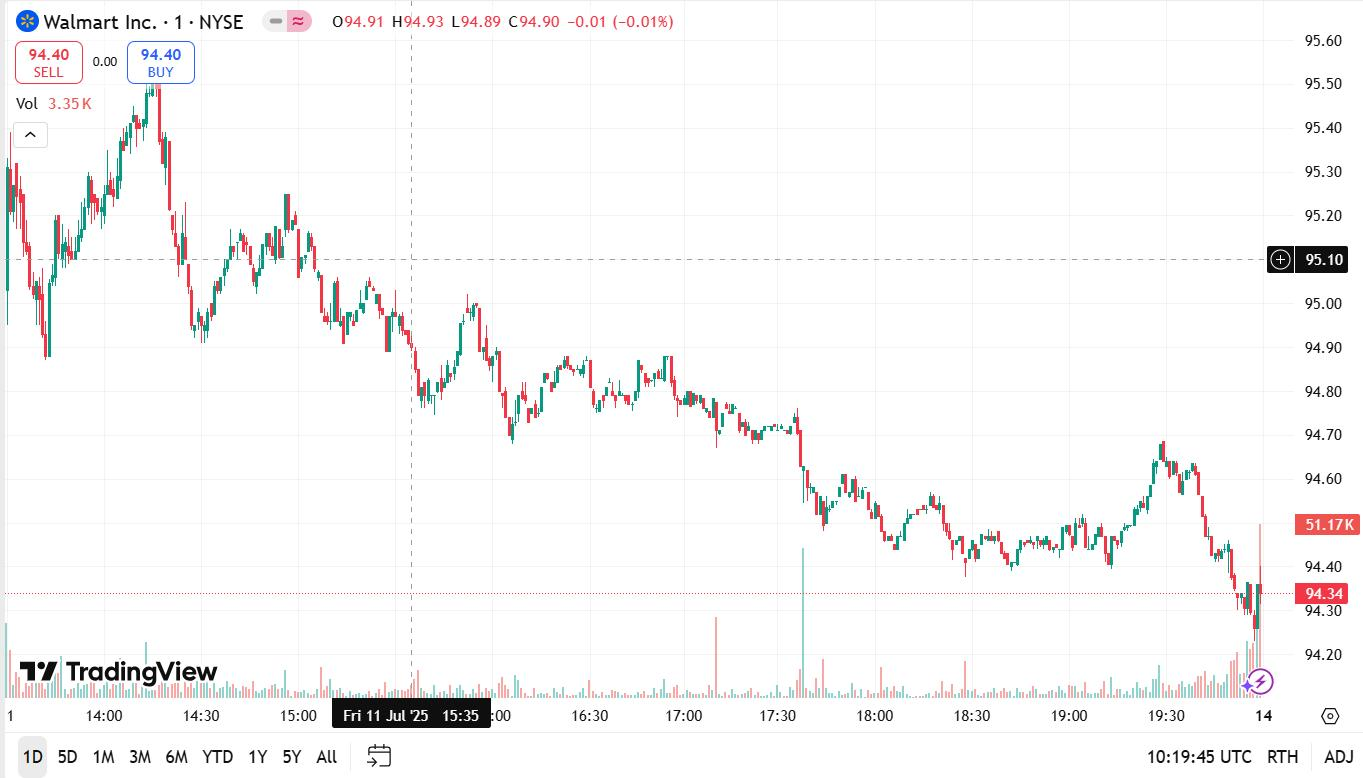Downtrend: (278, 194, 428, 410), (150, 84, 200, 344), (1185, 462, 1261, 628), (792, 414, 825, 536)
Sideways: (547, 352, 684, 414)
Uptrend: (1105, 439, 1161, 567)
